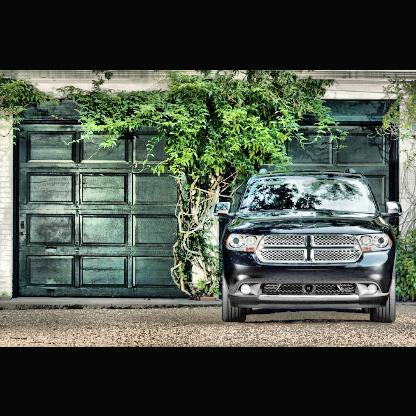Dodge Durango SUV 2012: (220, 167, 404, 324)
